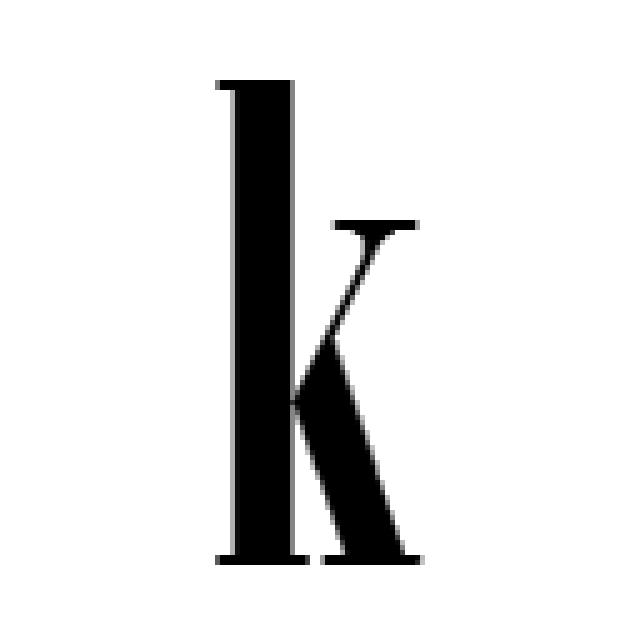K: (196, 58, 441, 563)
